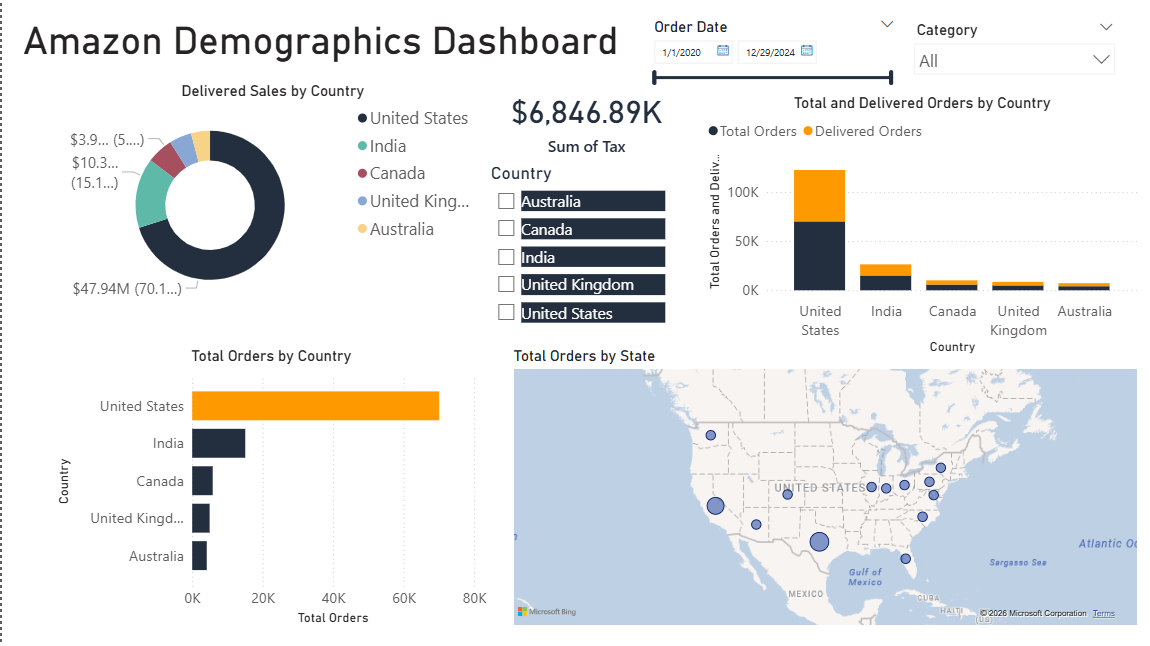

The dashboard page shown, as its layout file describes it:
{"tool":"powerbi","page":{"name":"Page 3","canvas":[1280,720],"ordinal":2},"visuals":[{"type":"map","title":"Total Orders by State","fields":{"Category":["Amazon (1).State"],"Size":["Amazon (1).Total Orders"]},"box":[563.3,386.7,703.3,313.3],"z":0},{"type":"clusteredBarChart","fields":{"Y":["Amazon (1).Total Orders"],"Category":["Amazon (1).Country"]},"box":[55,386.7,488.3,313.3],"z":1000},{"type":"donutChart","fields":{"Y":["Amazon (1).Delivered Sales"],"Category":["Amazon (1).Country"]},"box":[63.3,91.7,475,255],"z":2000},{"type":"card","fields":{"Values":["Sum(Amazon (1).Tax)"]},"box":[543.3,91.7,211.7,85],"z":3000},{"type":"slicer","title":"Country","fields":{"Values":["Amazon (1).Country"]},"box":[538.3,181.7,203.3,191.7],"z":4000},{"type":"columnChart","title":"Total and Delivered Orders by Country","fields":{"Category":["Amazon (1).Country"],"Y":["Amazon (1).Total Orders","Amazon (1).Delivered Orders"]},"box":[778.3,105,488.3,293.3],"z":5000},{"type":"textbox","box":[18.3,15,693.3,68.3],"z":6000},{"type":"slicer","fields":{"Values":["Amazon (1).Order Date"]},"box":[711.7,15,291.7,83.3],"z":7000},{"type":"slicer","fields":{"Values":["Amazon (1).Category"]},"box":[1003.3,18.3,243.3,75],"z":8000}]}

Visuals, with their boxes in screenshot pixels (x1, y1, x2, y2), scaled from the page's 1280x720 canvas onto the 1150x646 screenshot:
"Total Orders by State" map: pyautogui.locateOnScreen(506, 347, 1138, 628)
clusteredBarChart - Amazon (1).Total Orders x Amazon (1).Country: pyautogui.locateOnScreen(49, 347, 488, 628)
donutChart - Amazon (1).Delivered Sales x Amazon (1).Country: pyautogui.locateOnScreen(57, 82, 484, 311)
card - Sum(Amazon (1).Tax): pyautogui.locateOnScreen(488, 82, 678, 159)
"Country" slicer: pyautogui.locateOnScreen(484, 163, 666, 335)
"Total and Delivered Orders by Country" columnChart: pyautogui.locateOnScreen(699, 94, 1138, 357)
textbox: pyautogui.locateOnScreen(16, 13, 639, 75)
slicer - Amazon (1).Order Date: pyautogui.locateOnScreen(639, 13, 901, 88)
slicer - Amazon (1).Category: pyautogui.locateOnScreen(901, 16, 1120, 84)
